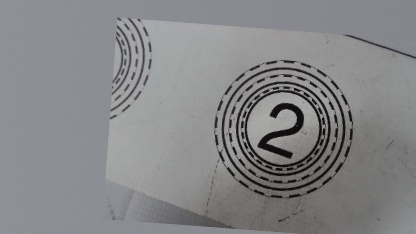2r: (207, 54, 358, 205)
